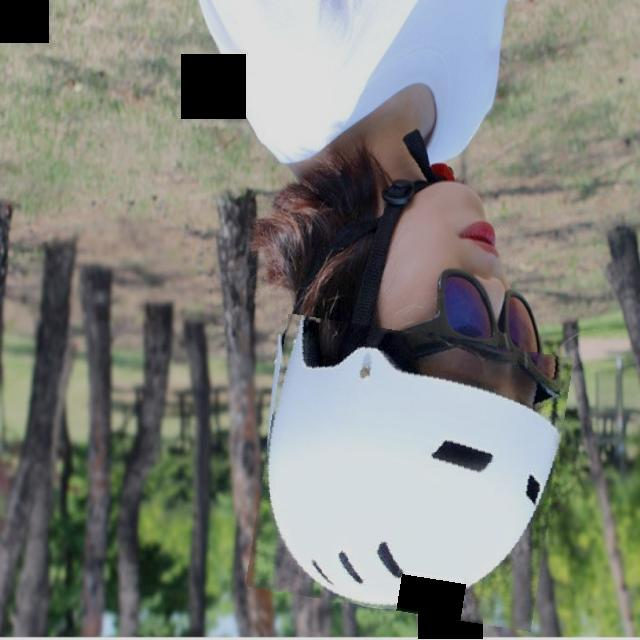helmet: (255, 324, 564, 621)
